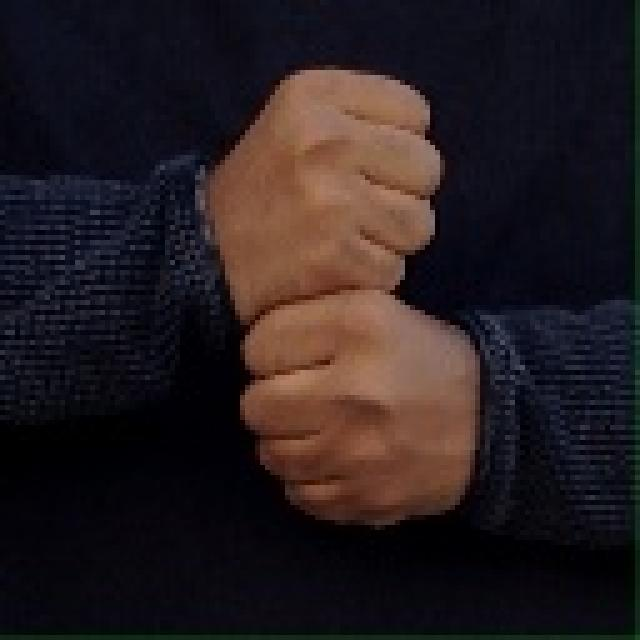Alphabet-g: (200, 56, 487, 546)
